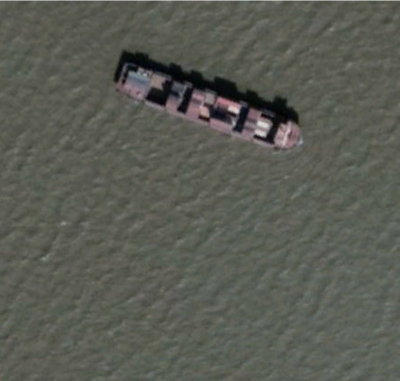boat: (114, 57, 304, 152)
